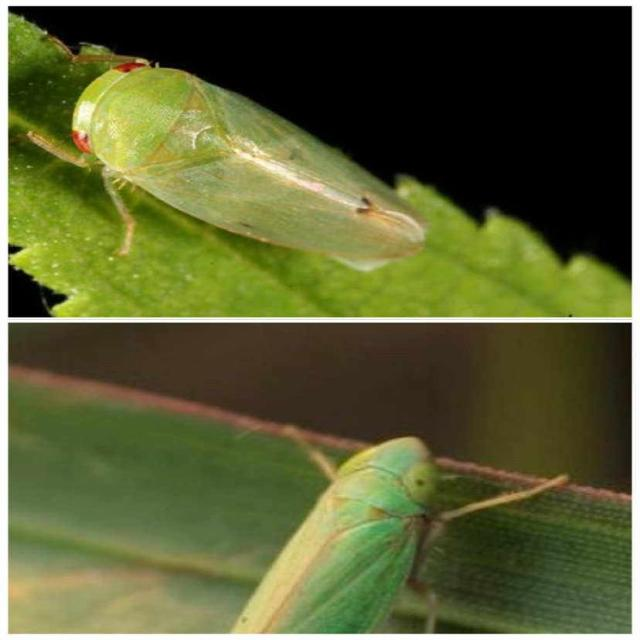Yechan: (49, 42, 434, 275)
